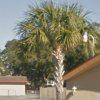Palm tree: (27, 2, 77, 95)
